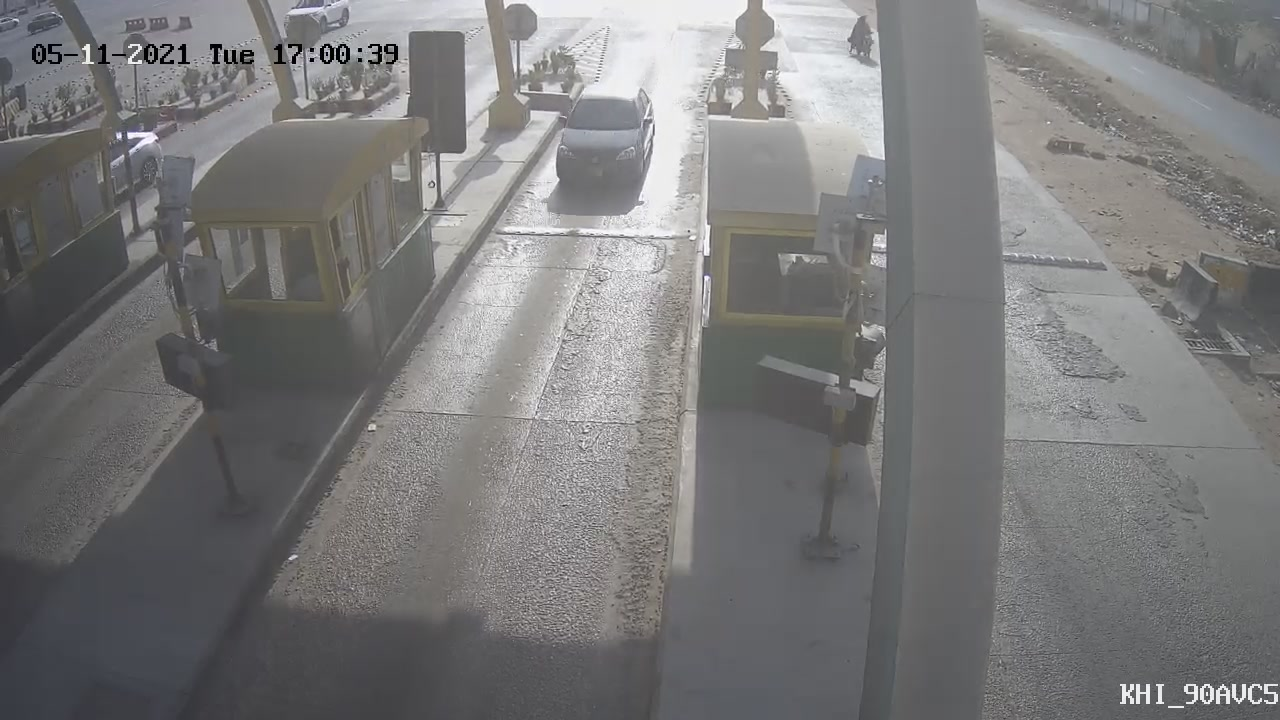F1: (535, 64, 670, 214)
